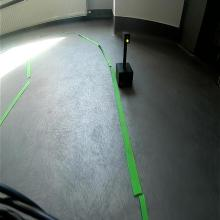green: (121, 32, 131, 43)
